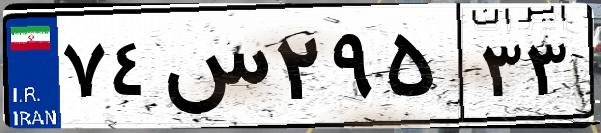2: (270, 28, 330, 110)
3: (475, 38, 525, 113), (525, 38, 570, 115)
4: (110, 28, 158, 98)
5: (385, 28, 445, 110)
7: (57, 26, 110, 100)
9: (330, 28, 385, 110)
س: (158, 20, 270, 120)
